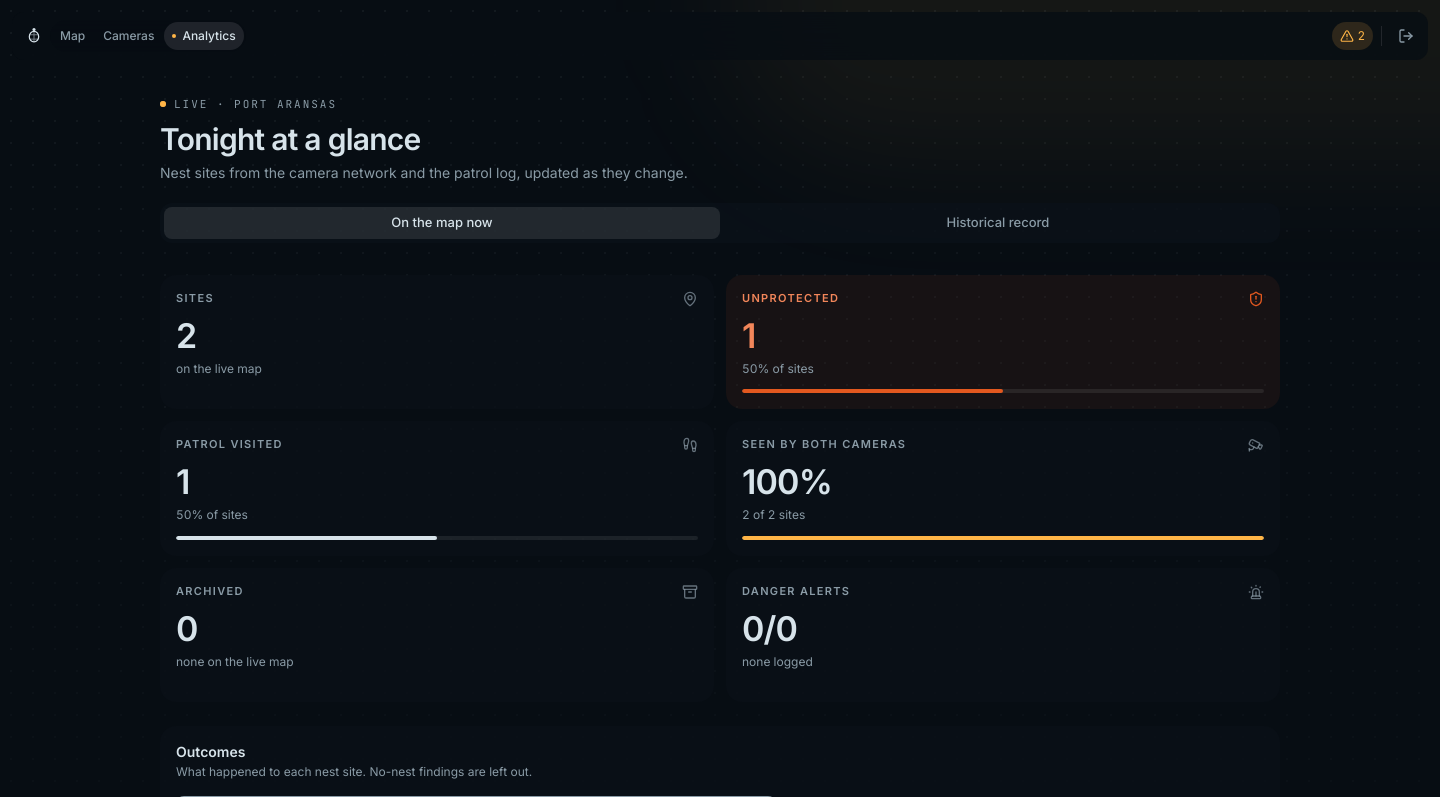
Test: AnalyticsScreen › loads the persisted historical sheet with selectable time windows
Click the radio button labelled "Historical record".
click(998, 222)  # box [720,206,1276,238]
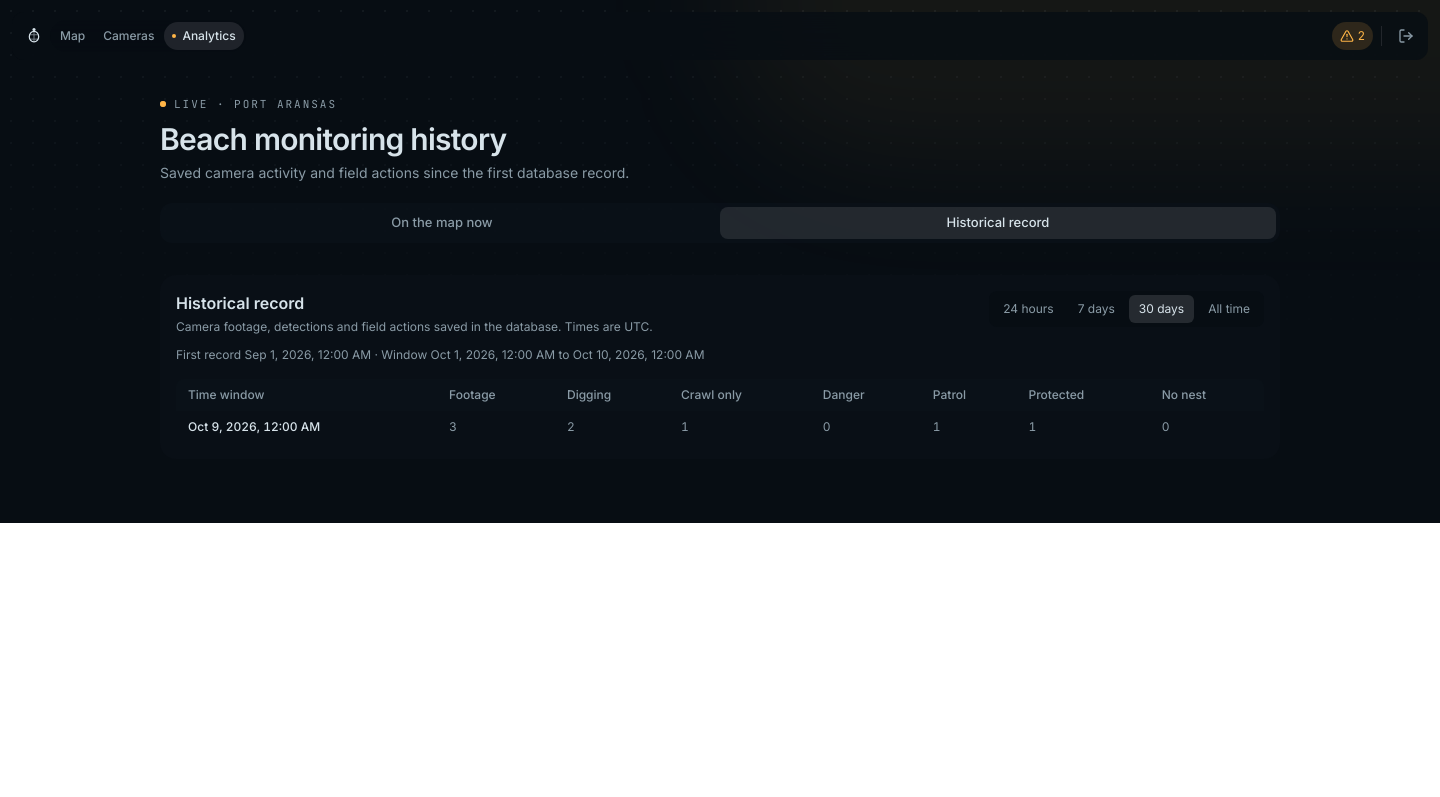
Check: the heading "Historical record" is shown, box [176,292,304,312]
Check: the table is shown, box [176,378,1264,442]
Check: the button "All time" is shown, box [1198,294,1260,322]
